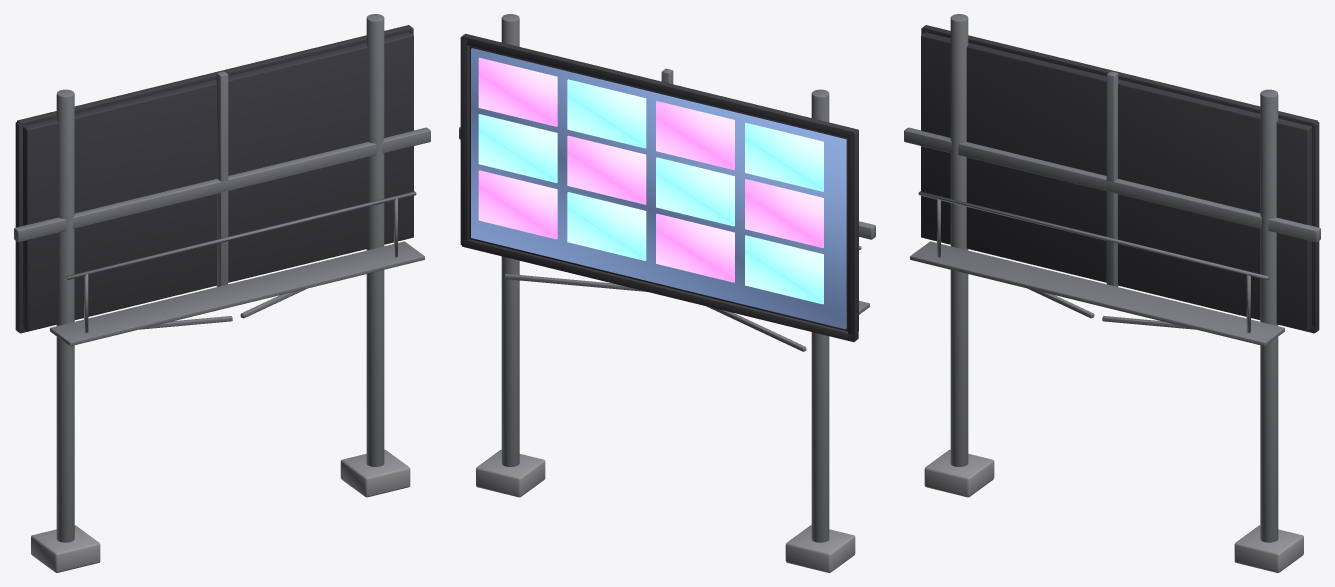
File: billboard.glb
The picture shows the model from 3 angles, left to right: view 1: azimuth 30°, elevation 25°; view 2: azimuth 150°, elevation 25°; view 3: azimuth 330°, elevation 25°; orthographic projection.
Parts seen in each view (by area): view 1: BB_Backplate, BB_Catwalk, BB_Pole_-2.4, BB_Pole_2.4, BB_Cross, BB_FrameTop, BB_MidBrace, BB_Foot_2.4, BB_Foot_-2.4, BB_RailTop, BB_FrameL; view 2: BB_Face, BB_FrameTop, BB_Pole_-2.4, BB_Pole_2.4, BB_Tile_2_3, BB_Tile_2_2, BB_Tile_0_2, BB_Tile_0_3, BB_Tile_1_2, BB_Tile_1_3, BB_Tile_1_1, BB_Tile_0_0 (+12 smaller); view 3: BB_Backplate, BB_Catwalk, BB_Pole_2.4, BB_Pole_-2.4, BB_Cross, BB_FrameTop, BB_MidBrace, BB_Foot_-2.4, BB_Foot_2.4, BB_RailTop, BB_FrameR.
Boxes of the visible parts, bbox=[...] form: BB_Backplate: bbox=[23, 32, 413, 331]; BB_Catwalk: bbox=[50, 241, 424, 346]; BB_Pole_-2.4: bbox=[56, 89, 74, 542]; BB_Pole_2.4: bbox=[366, 14, 384, 466]; BB_Cross: bbox=[14, 127, 430, 242]; BB_FrameTop: bbox=[17, 25, 412, 129]; BB_MidBrace: bbox=[216, 71, 228, 286]; BB_Foot_2.4: bbox=[340, 449, 410, 497]; BB_Foot_-2.4: bbox=[31, 525, 100, 572]; BB_RailTop: bbox=[66, 191, 416, 279]; BB_FrameL: bbox=[15, 122, 25, 332]; BB_Face: bbox=[471, 48, 846, 329]; BB_FrameTop: bbox=[462, 33, 857, 137]; BB_Pole_-2.4: bbox=[811, 89, 829, 542]; BB_Pole_2.4: bbox=[501, 14, 519, 466]; BB_Tile_2_3: bbox=[478, 57, 557, 126]; BB_Tile_2_2: bbox=[567, 79, 646, 148]; BB_Tile_0_2: bbox=[567, 192, 646, 260]; BB_Tile_0_3: bbox=[478, 170, 557, 239]; BB_Tile_1_2: bbox=[567, 135, 646, 204]; BB_Tile_1_3: bbox=[478, 114, 557, 182]; BB_Tile_1_1: bbox=[656, 157, 734, 226]; BB_Tile_0_0: bbox=[745, 235, 823, 304]; BB_Backplate: bbox=[921, 32, 1311, 331]; BB_Catwalk: bbox=[910, 241, 1284, 346]; BB_Pole_2.4: bbox=[1260, 89, 1278, 542]; BB_Pole_-2.4: bbox=[950, 14, 968, 466]; BB_Cross: bbox=[904, 127, 1320, 242]; BB_FrameTop: bbox=[922, 25, 1317, 129]; BB_MidBrace: bbox=[1106, 71, 1118, 286]; BB_Foot_-2.4: bbox=[924, 449, 994, 497]; BB_Foot_2.4: bbox=[1234, 525, 1303, 572]; BB_RailTop: bbox=[918, 191, 1268, 279]; BB_FrameR: bbox=[1309, 122, 1319, 332].
Bounding box in the file's own units: 6.4 × 6.9 × 1.07.
